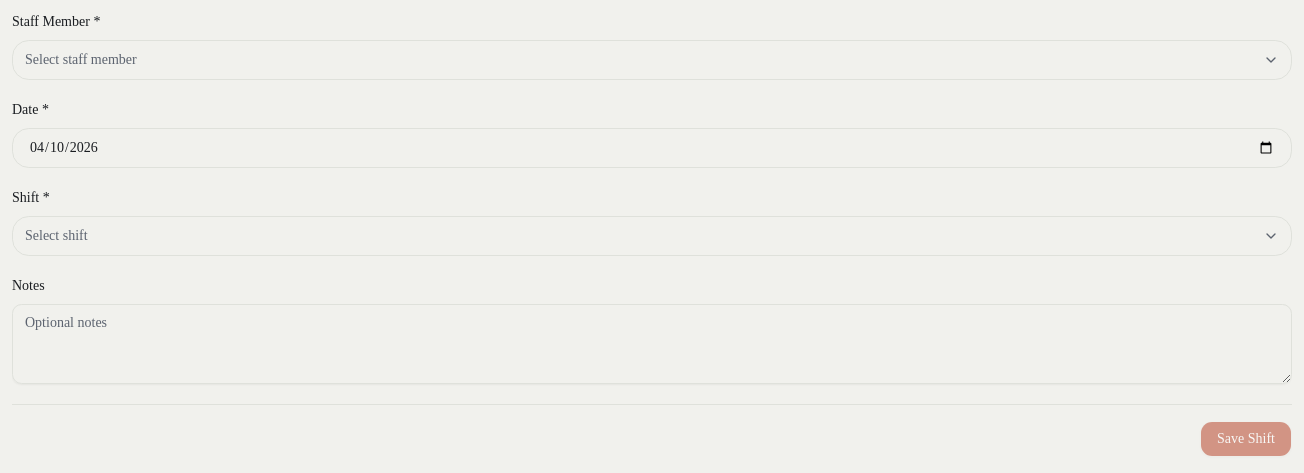
Test: ShiftForm dropdown labels › renders staff options as employee_id — name and hides UUIDs
Click the dropdown labelled "Select staff member ▼": (81, 60) [12,40,1292,80]
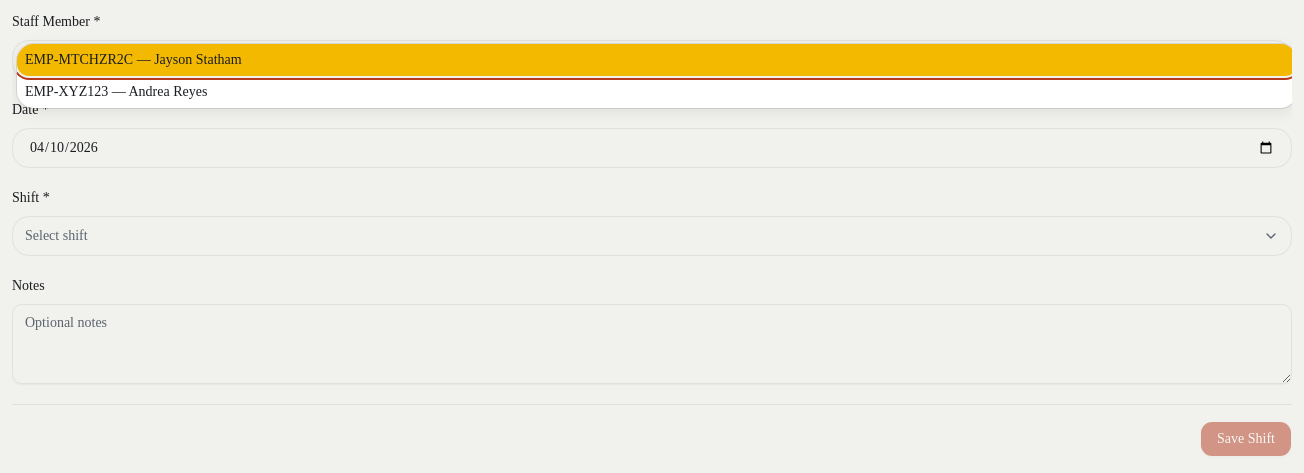
Expected: the text "EMP-MTCHZR2C — Jayson Statham" is shown, [25,52,242,67]
Expected: the text "EMP-XYZ123 — Andrea Reyes" is shown, [25,84,207,99]
